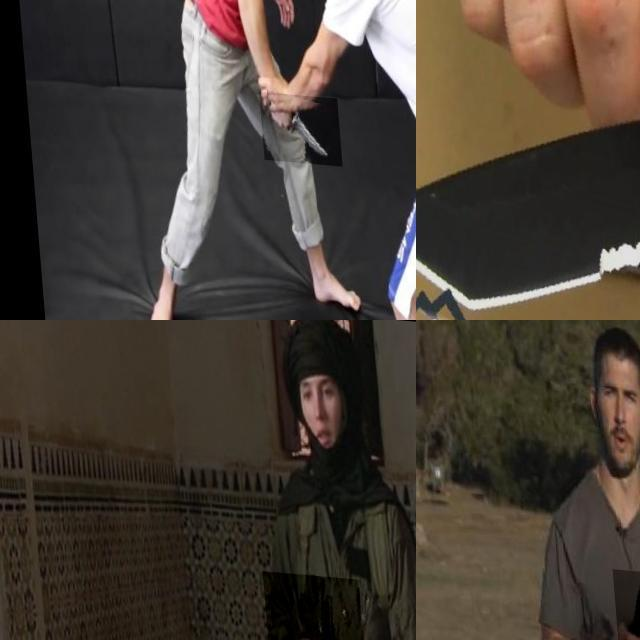-: (416, 0, 640, 320), (253, 88, 336, 160), (608, 563, 640, 640)
gun-knife-thesis - v11 Yolov5 augmented: (258, 565, 373, 640)
